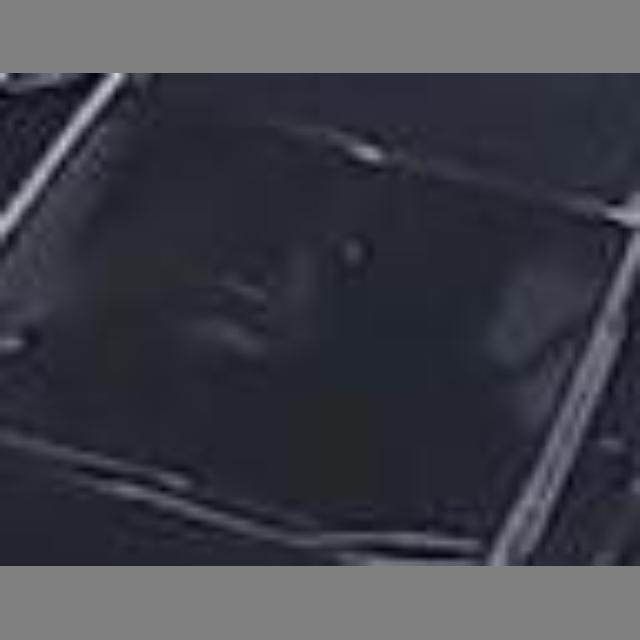pakai: (453, 213, 600, 433)
